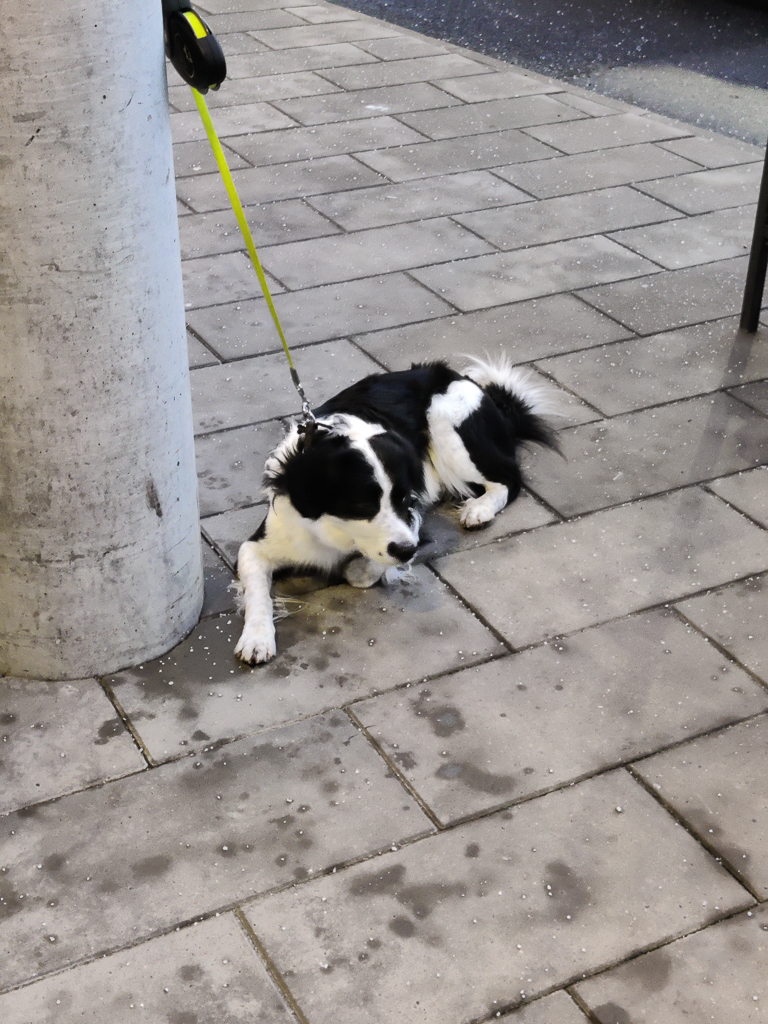Dog: (220, 335, 576, 677)
